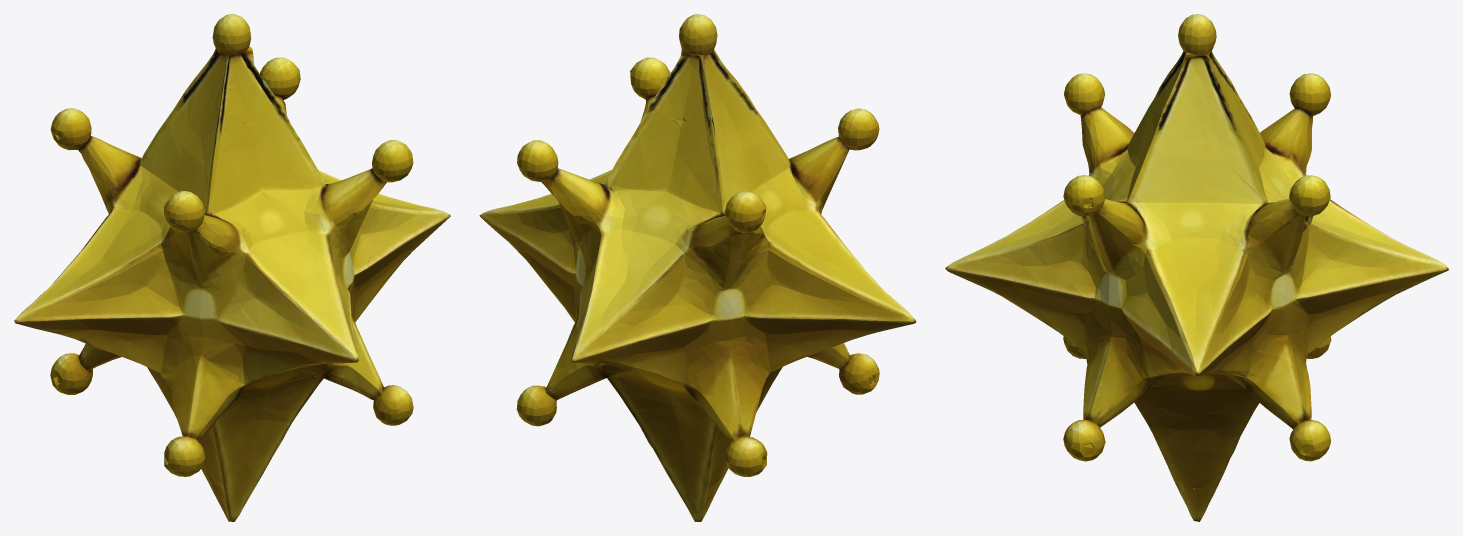
Rendered from glint.glb.
The picture shows the model from 3 angles, left to right: view 1: azimuth 30°, elevation 25°; view 2: azimuth 150°, elevation 25°; view 3: azimuth 270°, elevation 25°; orthographic projection.
Visible parts, largest first — view 1: helper; view 2: helper; view 3: helper.
Boxes of the visible parts, x1=… form: helper: x1=14, y1=14, x2=450, y2=521; helper: x1=479, y1=14, x2=916, y2=521; helper: x1=945, y1=14, x2=1448, y2=521.
Size of the model in its own units: 0.9025 by 1 by 0.9027.
Materials: 1 (1 with a texture image).
